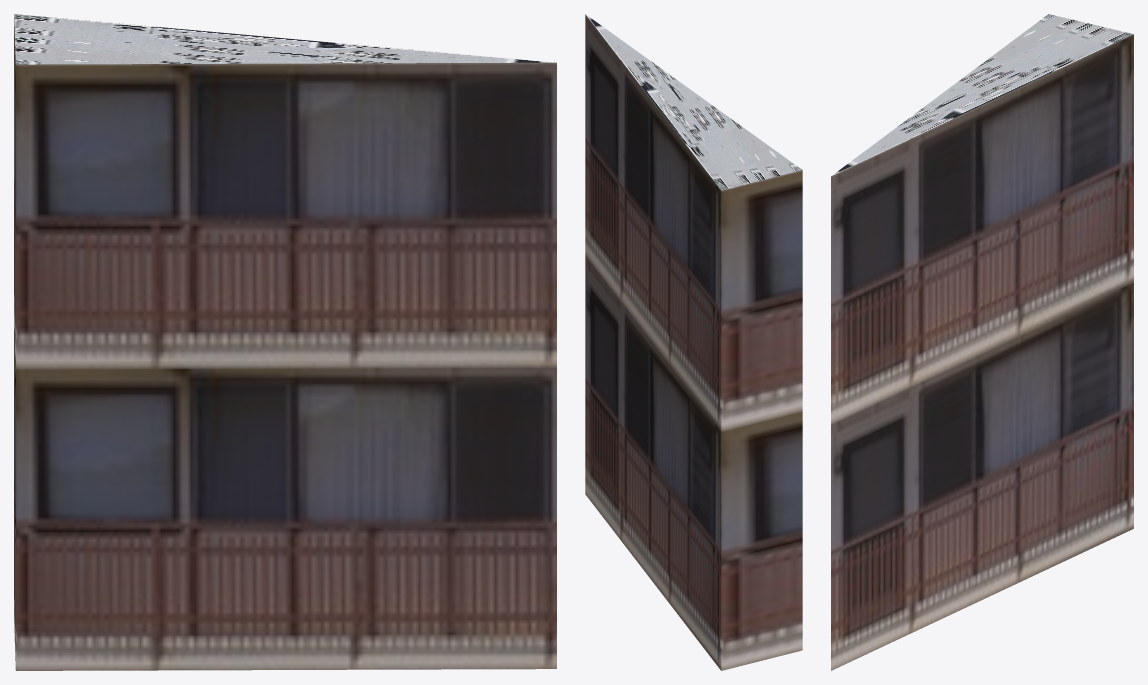
Rendered from ResTex__3363.fbx.
3 renders of one model, left to right at view 1: azimuth 30°, elevation 25°; view 2: azimuth 150°, elevation 25°; view 3: azimuth 270°, elevation 25°, orthographic. The views are drawn at different scales.
Visible parts, largest first — view 1: CityEngineMaterial_6_m, CityEngineMaterial_m; view 2: CityEngineMaterial_6_m, CityEngineMaterial_m; view 3: CityEngineMaterial_6_m, CityEngineMaterial_m.
Part boxes in pixels (x1=…): CityEngineMaterial_6_m: x1=14, y1=17, x2=556, y2=670; CityEngineMaterial_m: x1=14, y1=14, x2=554, y2=64; CityEngineMaterial_6_m: x1=585, y1=14, x2=802, y2=670; CityEngineMaterial_m: x1=585, y1=14, x2=801, y2=190; CityEngineMaterial_6_m: x1=831, y1=34, x2=1133, y2=670; CityEngineMaterial_m: x1=832, y1=14, x2=1133, y2=175.
Size of the model in its own units: 4.22 by 6 by 3.33.
Materials: 2 (2 with a texture image).
